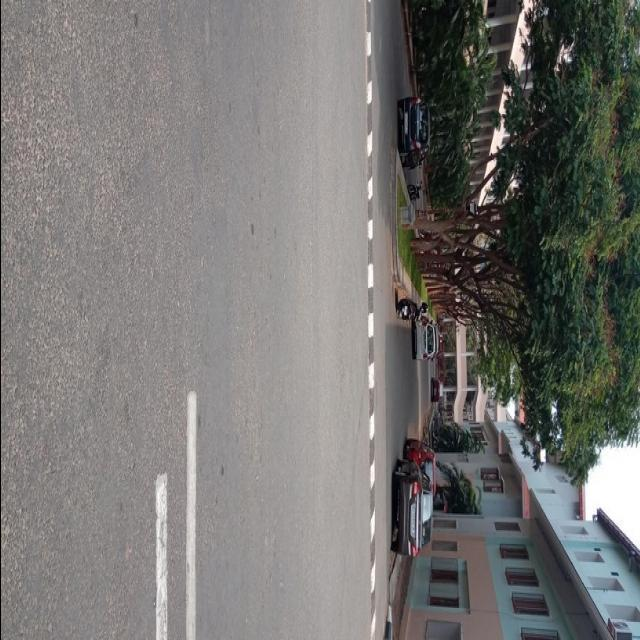speedbreaker: (360, 0, 383, 640)
